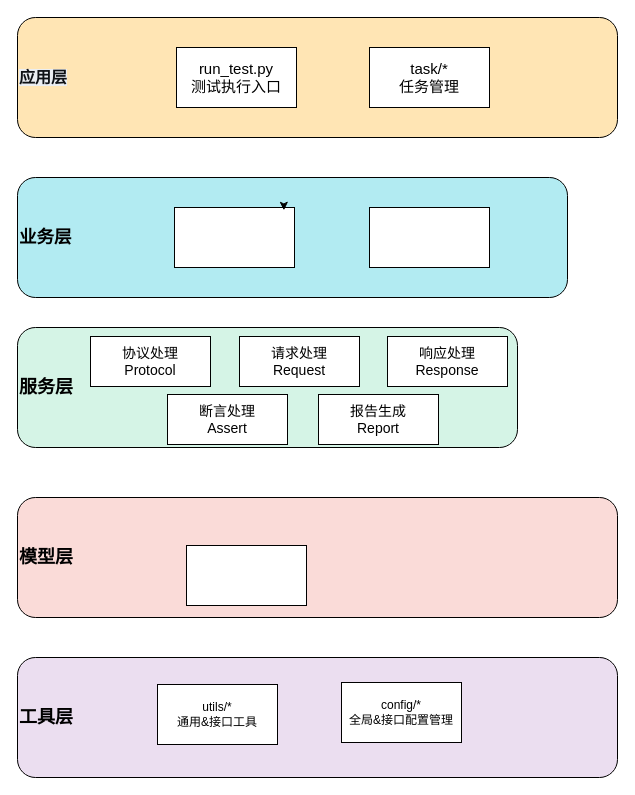
Image size: 635x795. Some labels were removed from this diagram. Here are the shapes that lost their labels. From the top down, the centre of each, then its label:
the point at 234,237: plc_api.py PLC设备接口
the point at 429,237: pri/* 私有实现
the point at 246,575: models/* 数据模型定义
